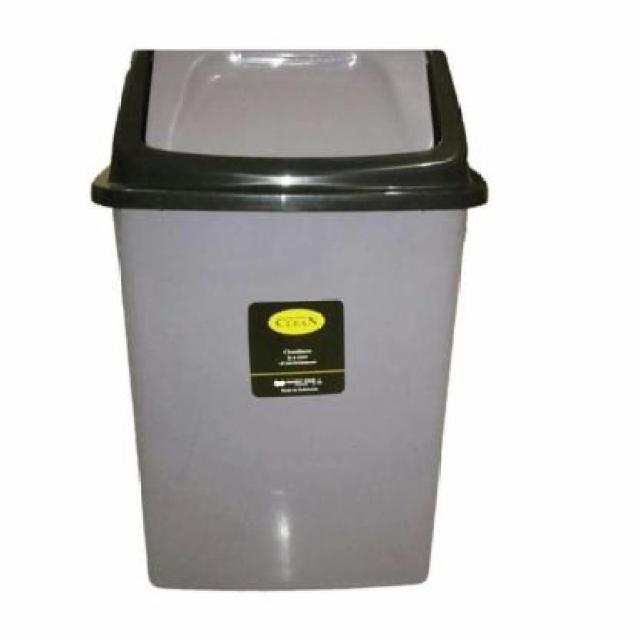garbage container: (79, 38, 499, 613)
